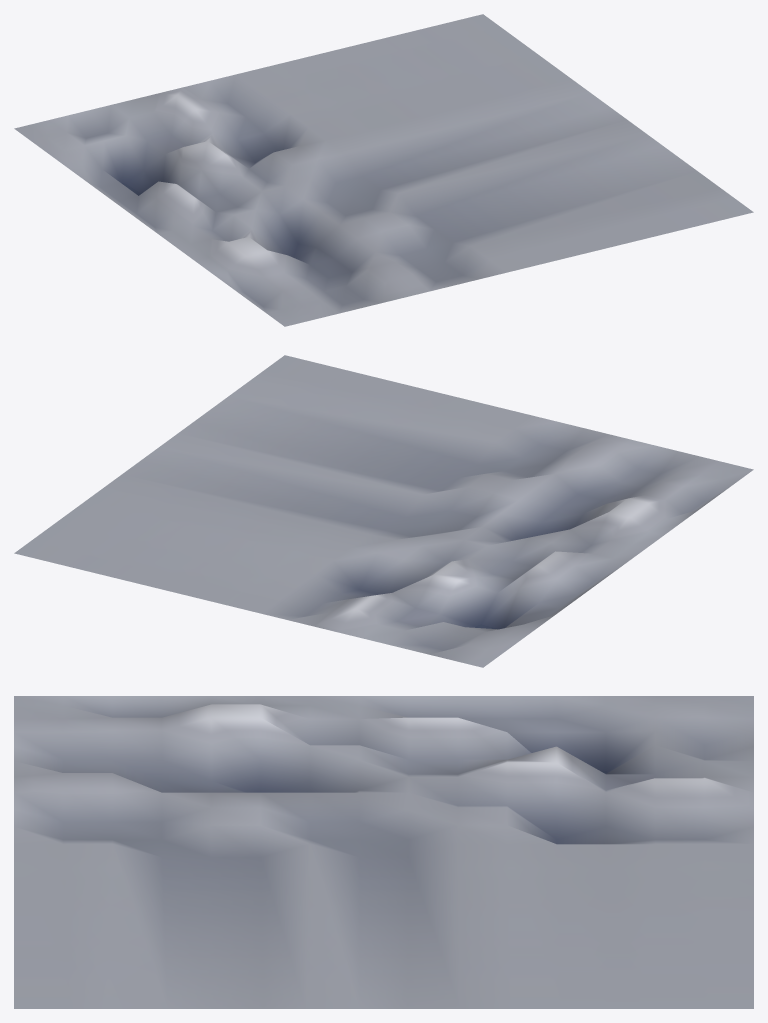
File: Terrain_bumpy_slight.fbx
3 renders of one model, top to bottom at view 1: azimuth 30°, elevation 25°; view 2: azimuth 150°, elevation 25°; view 3: azimuth 270°, elevation 25°, orthographic. The views are drawn at different scales.
Visible parts, largest first — view 1: Terrain_bumpy_slight; view 2: Terrain_bumpy_slight; view 3: Terrain_bumpy_slight.
Part boxes in pixels (x1,y1,x2,y2): Terrain_bumpy_slight: (14,14,753,326); Terrain_bumpy_slight: (14,355,753,667); Terrain_bumpy_slight: (14,696,753,1008).
Bounding box in the file's own units: 25 × 2.13 × 25.
